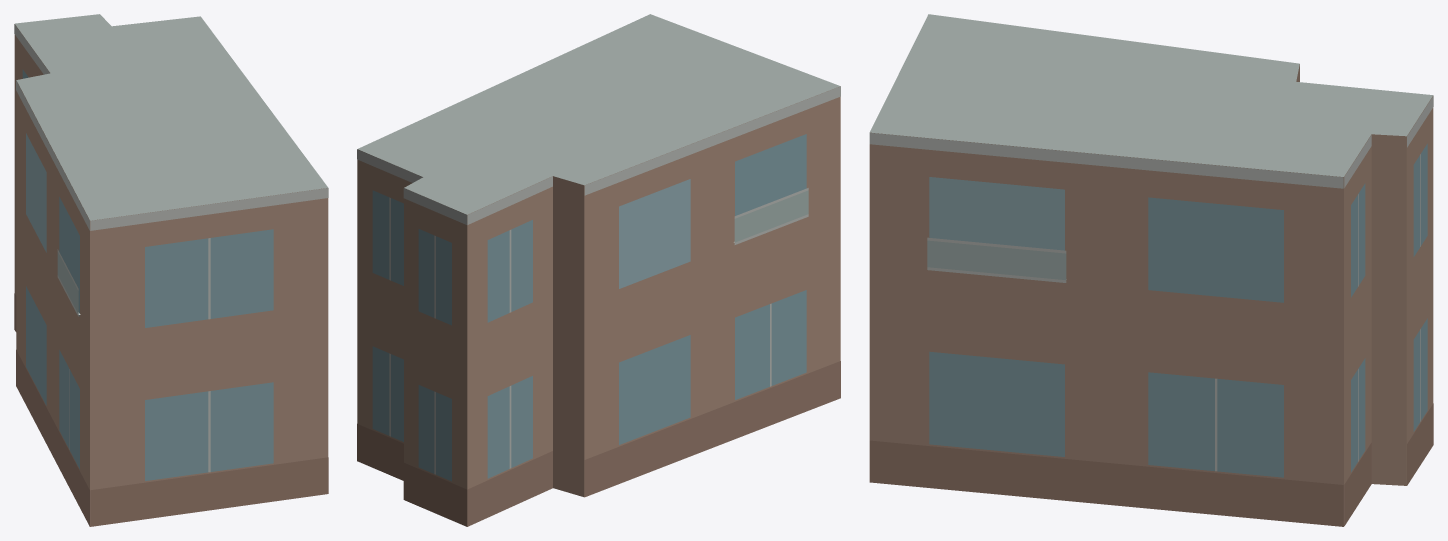
File: survey-upis-32543688.glb
3 renders of one model, left to right at view 1: azimuth 30°, elevation 25°; view 2: azimuth 150°, elevation 25°; view 3: azimuth 270°, elevation 25°, orthographic. The views are drawn at different scales.
Visible parts, largest first — view 1: survey-upis-32543688.tmp; view 2: survey-upis-32543688.tmp; view 3: survey-upis-32543688.tmp.
Part boxes in pixels (x1,y1,x2,y2): survey-upis-32543688.tmp: [14, 14, 328, 526]; survey-upis-32543688.tmp: [357, 14, 840, 526]; survey-upis-32543688.tmp: [869, 14, 1433, 526].
Size of the model in its own units: 7.31 by 7.3 by 10.68.
